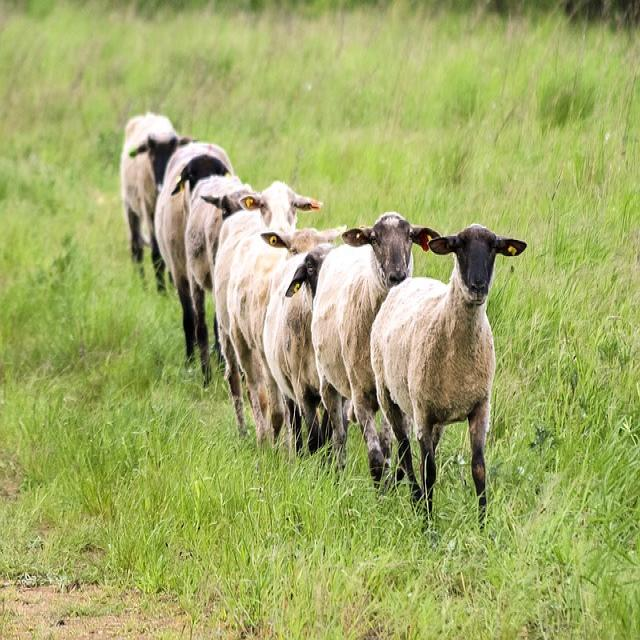goat: (369, 225, 526, 515), (310, 212, 441, 477), (262, 243, 333, 455), (119, 113, 182, 265)
